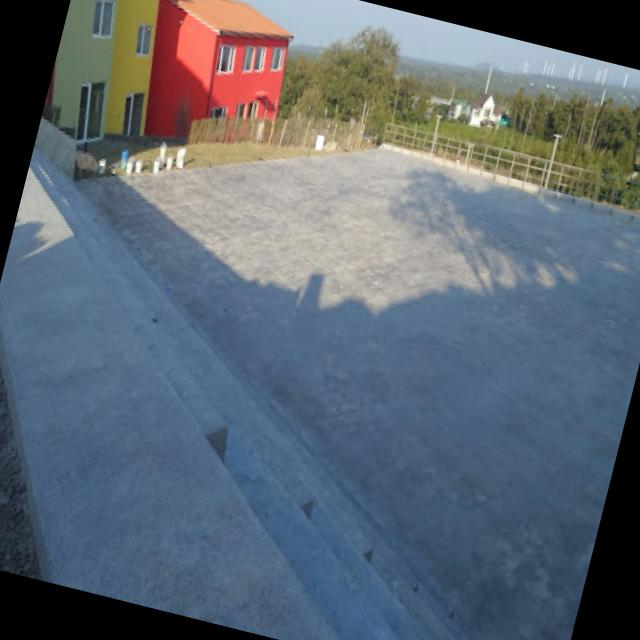asphalt: (0, 365, 42, 580)
cement: (0, 148, 640, 640)
